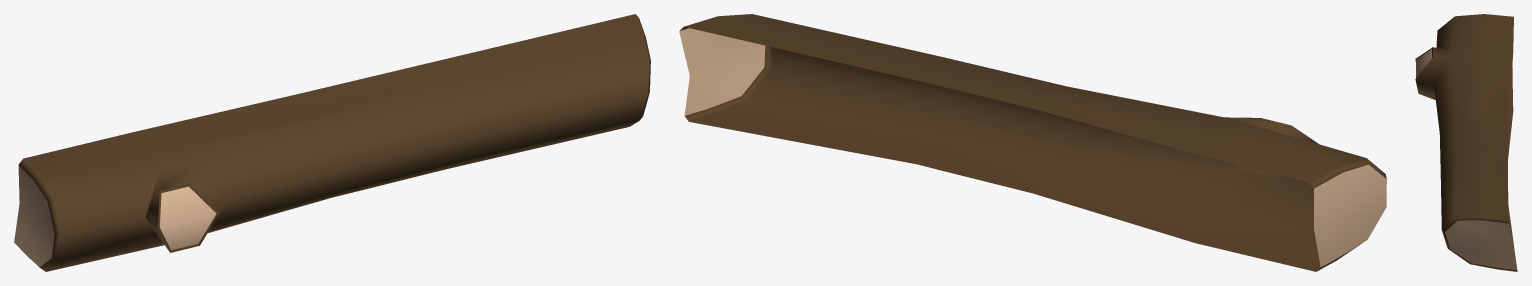
Rendered from Window_Log.fbx.
3 views of the same model, side by side, from view 1: azimuth 30°, elevation 25°; view 2: azimuth 150°, elevation 25°; view 3: azimuth 270°, elevation 25° (orthographic). The views are drawn at different scales.
Visible parts, largest first — view 1: pCylinder1; view 2: pCylinder1; view 3: pCylinder1.
Part boxes in pixels (left/top/right/bottom): pCylinder1: left=14, top=14, right=650, bottom=271; pCylinder1: left=679, top=14, right=1386, bottom=271; pCylinder1: left=1415, top=14, right=1517, bottom=271.
Bounding box in the file's own units: 5.16 × 0.6823 × 1.06.
